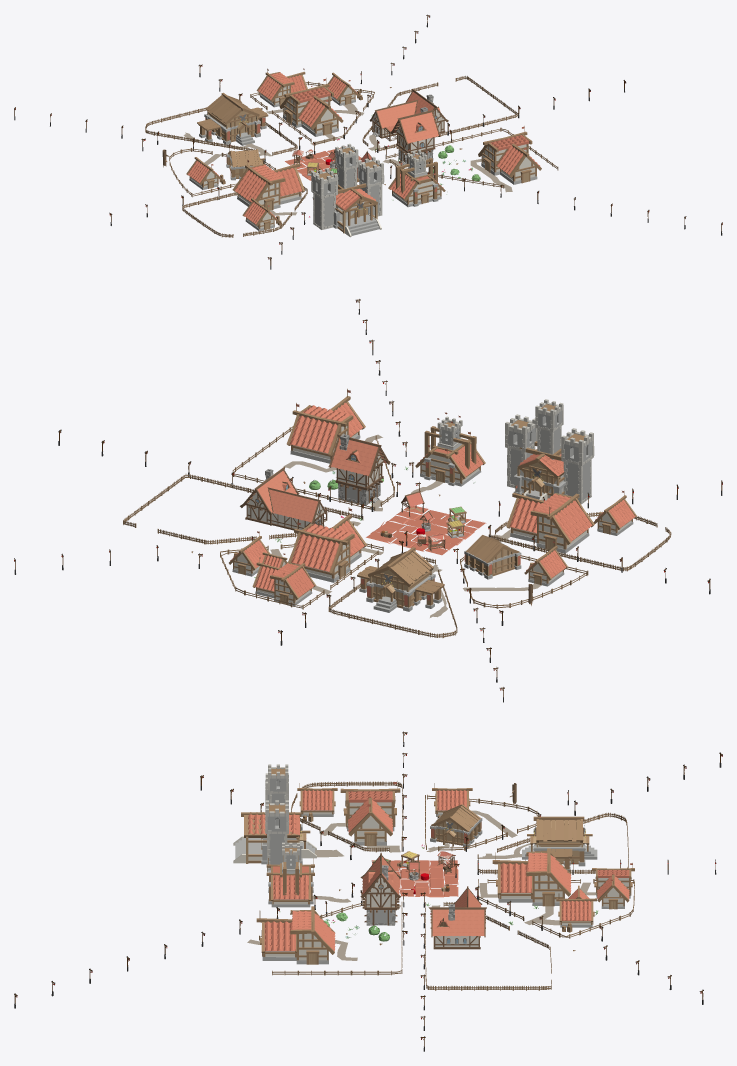
Rendered from chunk_1_1.glb.
The picture shows the model from 3 angles, top to bottom: view 1: azimuth 30°, elevation 25°; view 2: azimuth 150°, elevation 25°; view 3: azimuth 270°, elevation 25°; orthographic projection. The views are drawn at different scales.
Visible parts, largest first — view 1: Batched_Chunk_1_1; view 2: Batched_Chunk_1_1; view 3: Batched_Chunk_1_1.
Boxes of the visible parts, x1,y1,x2,y2 form: Batched_Chunk_1_1: (14,14,722,269); Batched_Chunk_1_1: (14,299,722,702); Batched_Chunk_1_1: (14,731,722,1051).
Bounding box in the file's own units: 173 × 26.46 × 170.
